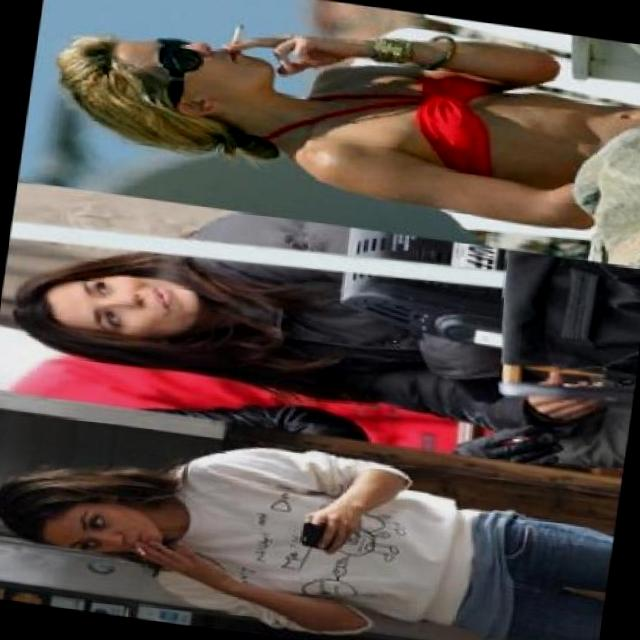smoke: (227, 20, 244, 48), (130, 540, 147, 556)
